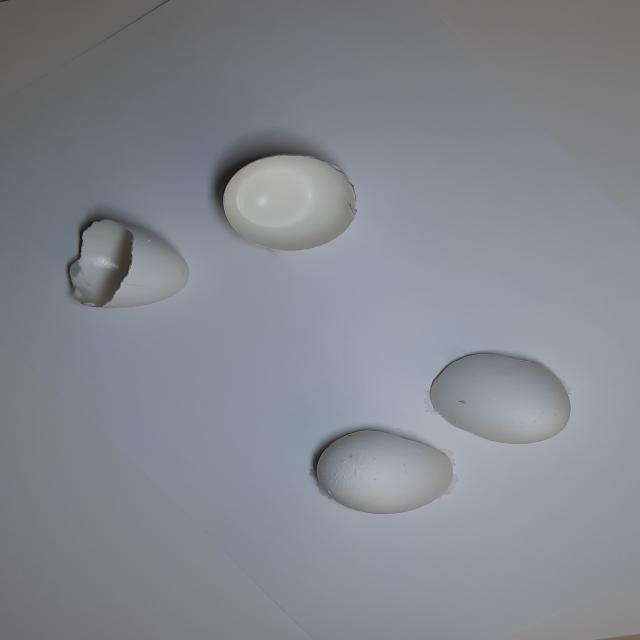egg shell: (208, 146, 368, 256), (426, 344, 584, 448), (51, 208, 196, 316), (302, 424, 462, 520)
